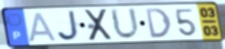5: (173, 7, 199, 37)
A: (29, 11, 60, 43)
D: (144, 7, 173, 40)
J: (56, 9, 83, 42)
U: (108, 7, 142, 42)
X: (83, 8, 116, 43)
